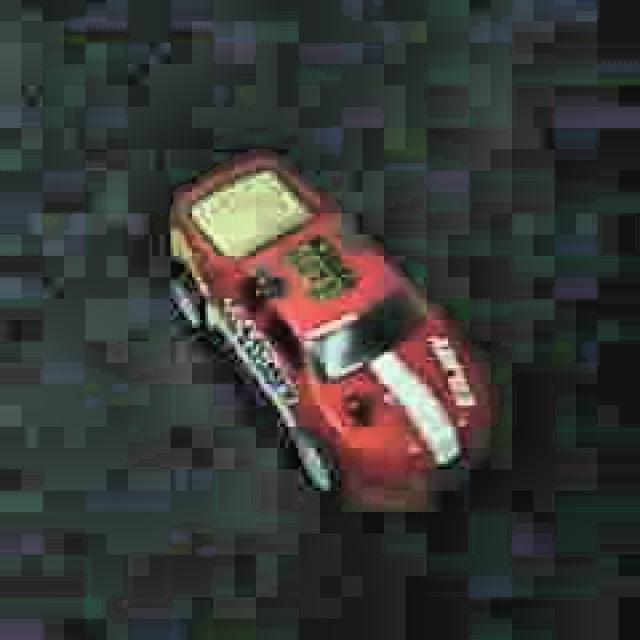car: (164, 149, 501, 513)
